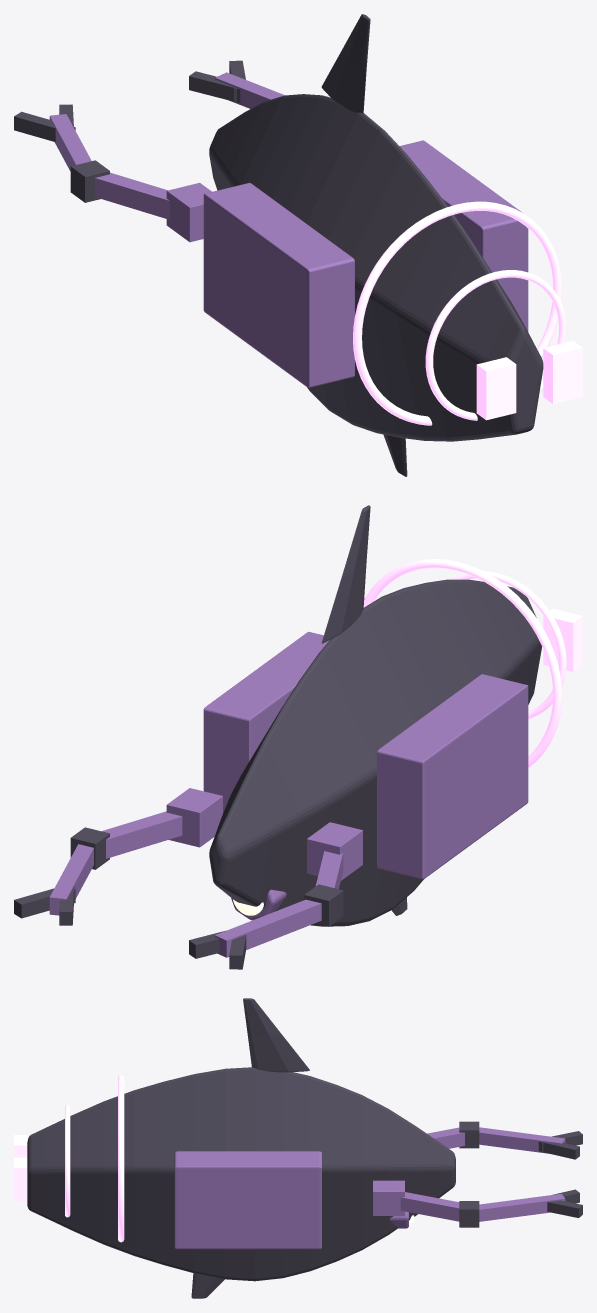
The model's file is ezrathi-harvester.glb.
3 renders of one model, top to bottom at view 1: azimuth 30°, elevation 25°; view 2: azimuth 150°, elevation 25°; view 3: azimuth 270°, elevation 25°, orthographic. The views are drawn at different scales.
Visible parts, largest first — view 1: hull, Cube, Cube.001, Torus, fin, Torus.001, Cube.016, Cube.017, Cube.005, Cube.004, Cube.007, Cube.006 (+4 smaller); view 2: hull, Cube, Cube.001, Torus, fin, Cube.007, Cube.010, Cube.011, Cube.004, Cube.016, Cube.013, Torus.001 (+5 smaller); view 3: hull, Cube.001, fin, Cube.013, Cube.007, Cube.011, Torus, Cube.010, Torus.001, Cube.017, fin.001, Cube.012 (+4 smaller).
Boxes of the visible parts, box(x1,y1,x2,y2) form: hull: box(209, 94, 543, 441); Cube: box(203, 182, 354, 387); Cube.001: box(399, 140, 528, 331); Torus: box(353, 201, 562, 425); fin: box(321, 14, 370, 113); Torus.001: box(425, 270, 566, 420); Cube.016: box(476, 357, 516, 420); Cube.017: box(543, 341, 582, 403); Cube.005: box(95, 172, 169, 219); Cube.004: box(166, 182, 211, 242); Cube.007: box(49, 114, 91, 171); Cube.006: box(70, 160, 109, 202); hull: box(209, 579, 541, 926); Cube: box(377, 674, 528, 879); Cube.001: box(203, 632, 329, 813); Torus: box(363, 559, 562, 767); fin: box(321, 505, 370, 643); Cube.007: box(215, 899, 321, 957); Cube.010: box(166, 788, 222, 847); Cube.011: box(102, 811, 182, 858); Cube.004: box(307, 822, 362, 880); Cube.016: box(543, 609, 582, 671); Cube.013: box(49, 844, 93, 915); Torus.001: box(451, 571, 566, 719); hull: box(27, 1067, 455, 1281); Cube.001: box(174, 1151, 321, 1249); fin: box(243, 998, 309, 1072); Cube.013: box(479, 1193, 565, 1221); Cube.007: box(479, 1127, 565, 1153); Cube.011: box(400, 1192, 459, 1221); Torus: box(118, 1075, 124, 1242); Cube.010: box(373, 1180, 404, 1215); Torus.001: box(65, 1105, 70, 1217); Cube.017: box(14, 1157, 27, 1201); fin.001: box(191, 1273, 224, 1298); Cube.012: box(459, 1201, 479, 1227).
Bounding box in the file's own units: 1.55 × 2.47 × 4.25.
